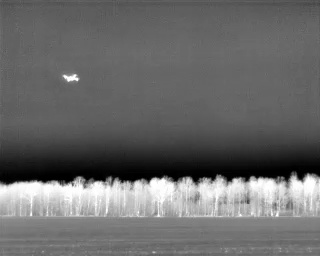DRONE: (59, 69, 83, 87)
